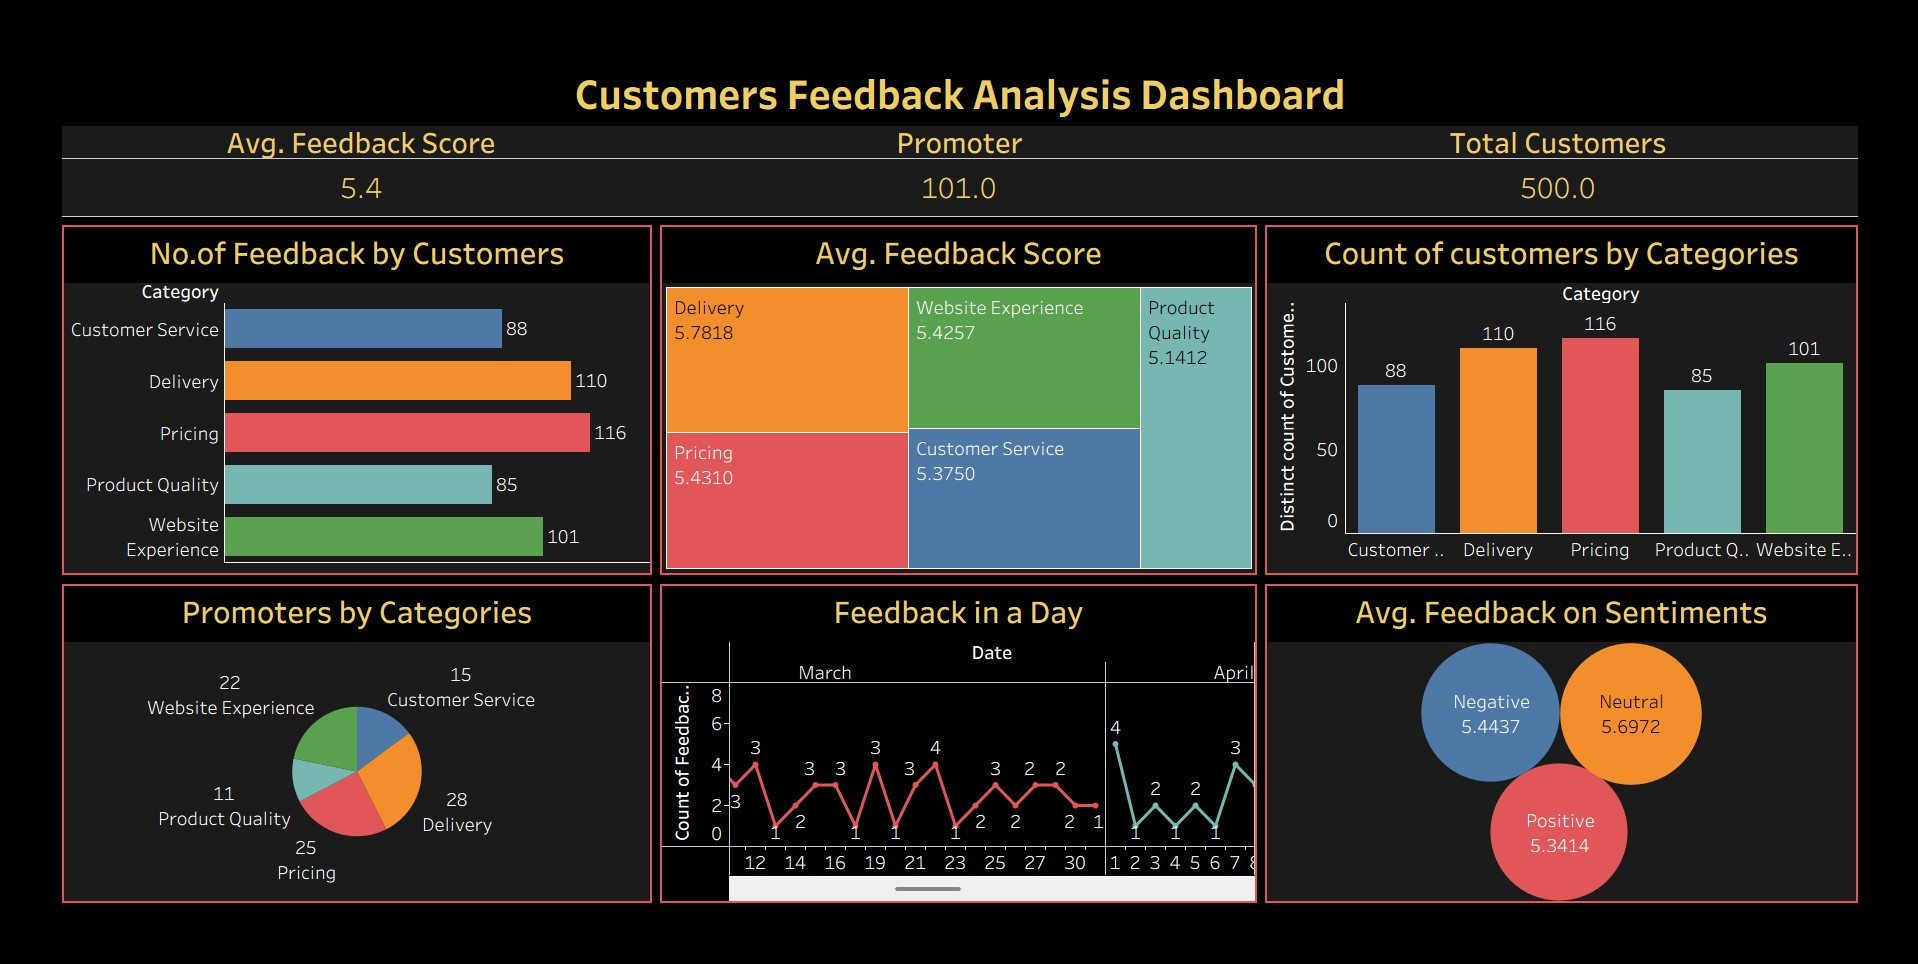

The dashboard page shown, as its layout file describes it:
{"tool":"tableau","page":{"name":"Dashboard 1","canvas":[1000,1000],"units":"permille","ordinal":0},"visuals":[{"type":"text","box":[4.4,11,991.2,68.4]},{"type":"worksheet","title":"KPI","mark":"Automatic","box":[4.4,79.4,991.2,115]},{"type":"worksheet","title":"No.Feedback by cus.","mark":"Automatic","rows":["category"],"cols":["feedback_text"],"box":[4.4,194.4,328.6,415.1]},{"type":"worksheet","title":"Avg. Feed. Score","mark":"Automatic","box":[333,194.4,332.2,415.1]},{"type":"worksheet","title":"Count cus. by cate.","mark":"Automatic","rows":["customer_id"],"cols":["category"],"box":[665.2,194.4,330.4,415.1]},{"type":"worksheet","title":"Pro.By Cate","mark":"Pie","box":[4.4,609.5,328.6,379.5]},{"type":"worksheet","title":"Feed.in  Day","mark":"Automatic","rows":["feedback_score"],"cols":["date","date"],"box":[333,609.5,332.2,379.5]},{"type":"worksheet","title":"Avg.Feed on Sen.","mark":"Circle","box":[665.2,609.5,330.4,379.5]}]}

Visuals, with their boxes on the dashboard's canvas, which has no fixed pixel size, in thousandths of its width and height (x1, y1, x2, y2). These are canvas units, not pixel positions in the 1918x964 screenshot, which may show the page scaled, cropped or inside an application window:
text: bbox=[4, 11, 996, 79]
"KPI" worksheet: bbox=[4, 79, 996, 194]
"No.Feedback by cus." worksheet: bbox=[4, 194, 333, 610]
"Avg. Feed. Score" worksheet: bbox=[333, 194, 665, 610]
"Count cus. by cate." worksheet: bbox=[665, 194, 996, 610]
"Pro.By Cate" worksheet (Pie marks): bbox=[4, 610, 333, 989]
"Feed.in  Day" worksheet: bbox=[333, 610, 665, 989]
"Avg.Feed on Sen." worksheet (Circle marks): bbox=[665, 610, 996, 989]
